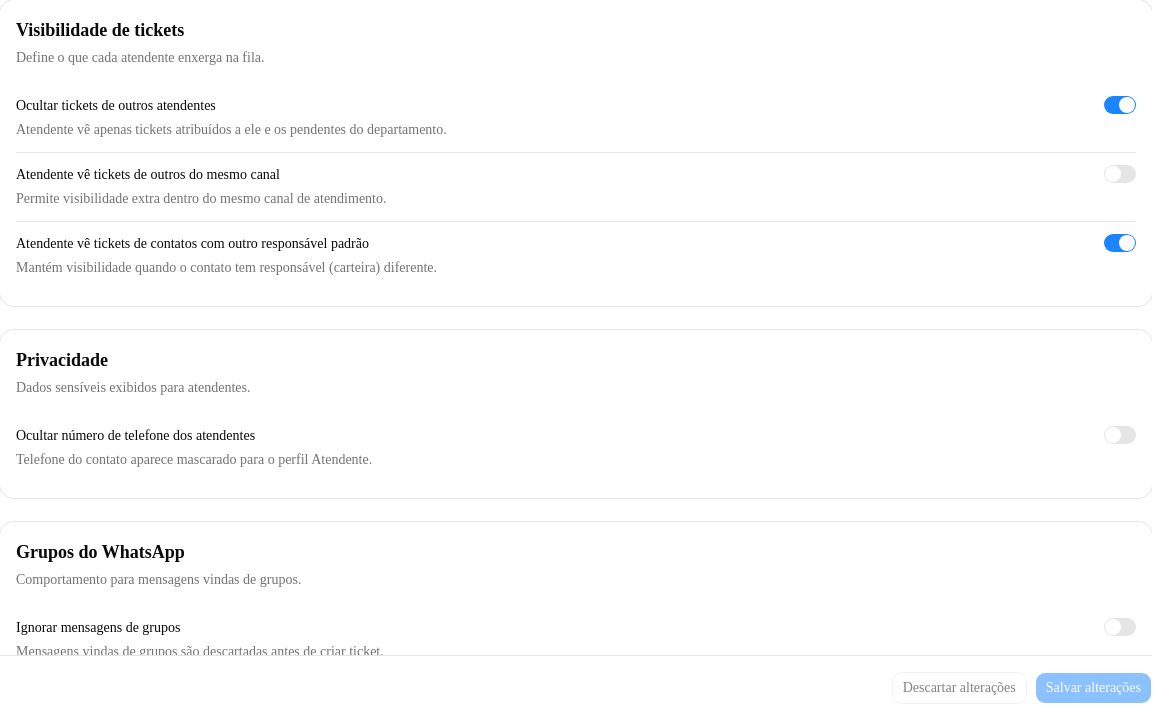
Test: PreferencesFormView › botão Salvar está disabled enquanto não dirty; habilita ao mudar um switch
Expected: the button "Salvar alterações" is disabled, [1035,672,1152,704]
Expected: the button "Descartar alterações" is disabled, [892,672,1027,704]
Click the switch named "Ocultar tickets de outros atendentes" in the row of "Ocultar tickets de outros atendentes" at coordinates (1120, 105), box [1104,96,1136,114]
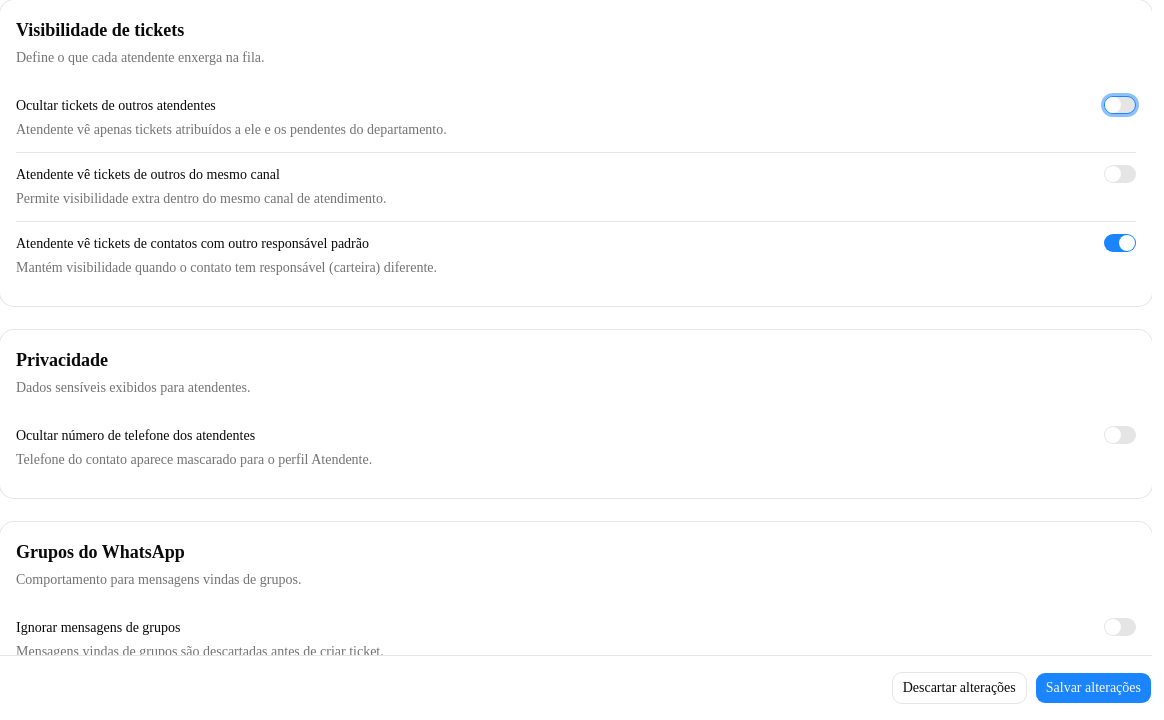
Expected: the button "Salvar alterações" is enabled, [1035,672,1152,704]
Expected: the button "Descartar alterações" is enabled, [892,672,1027,704]
